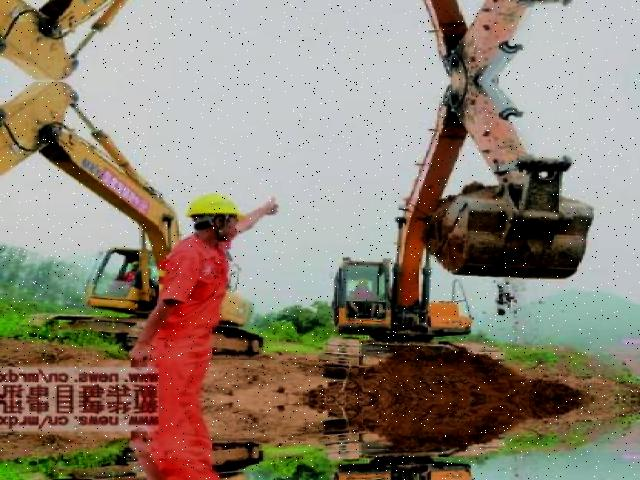Helmet: (183, 188, 250, 220)
